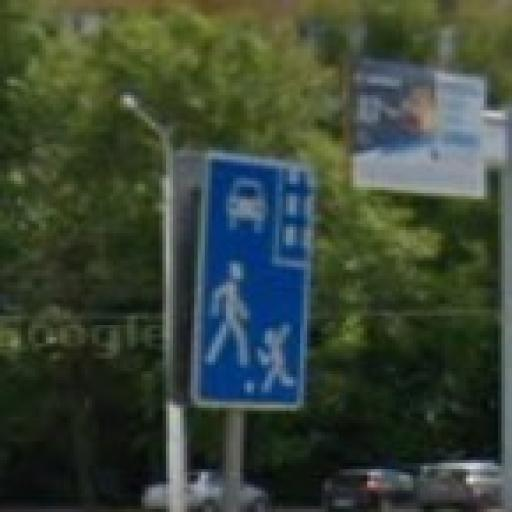traffic_sign: (192, 148, 319, 412)
